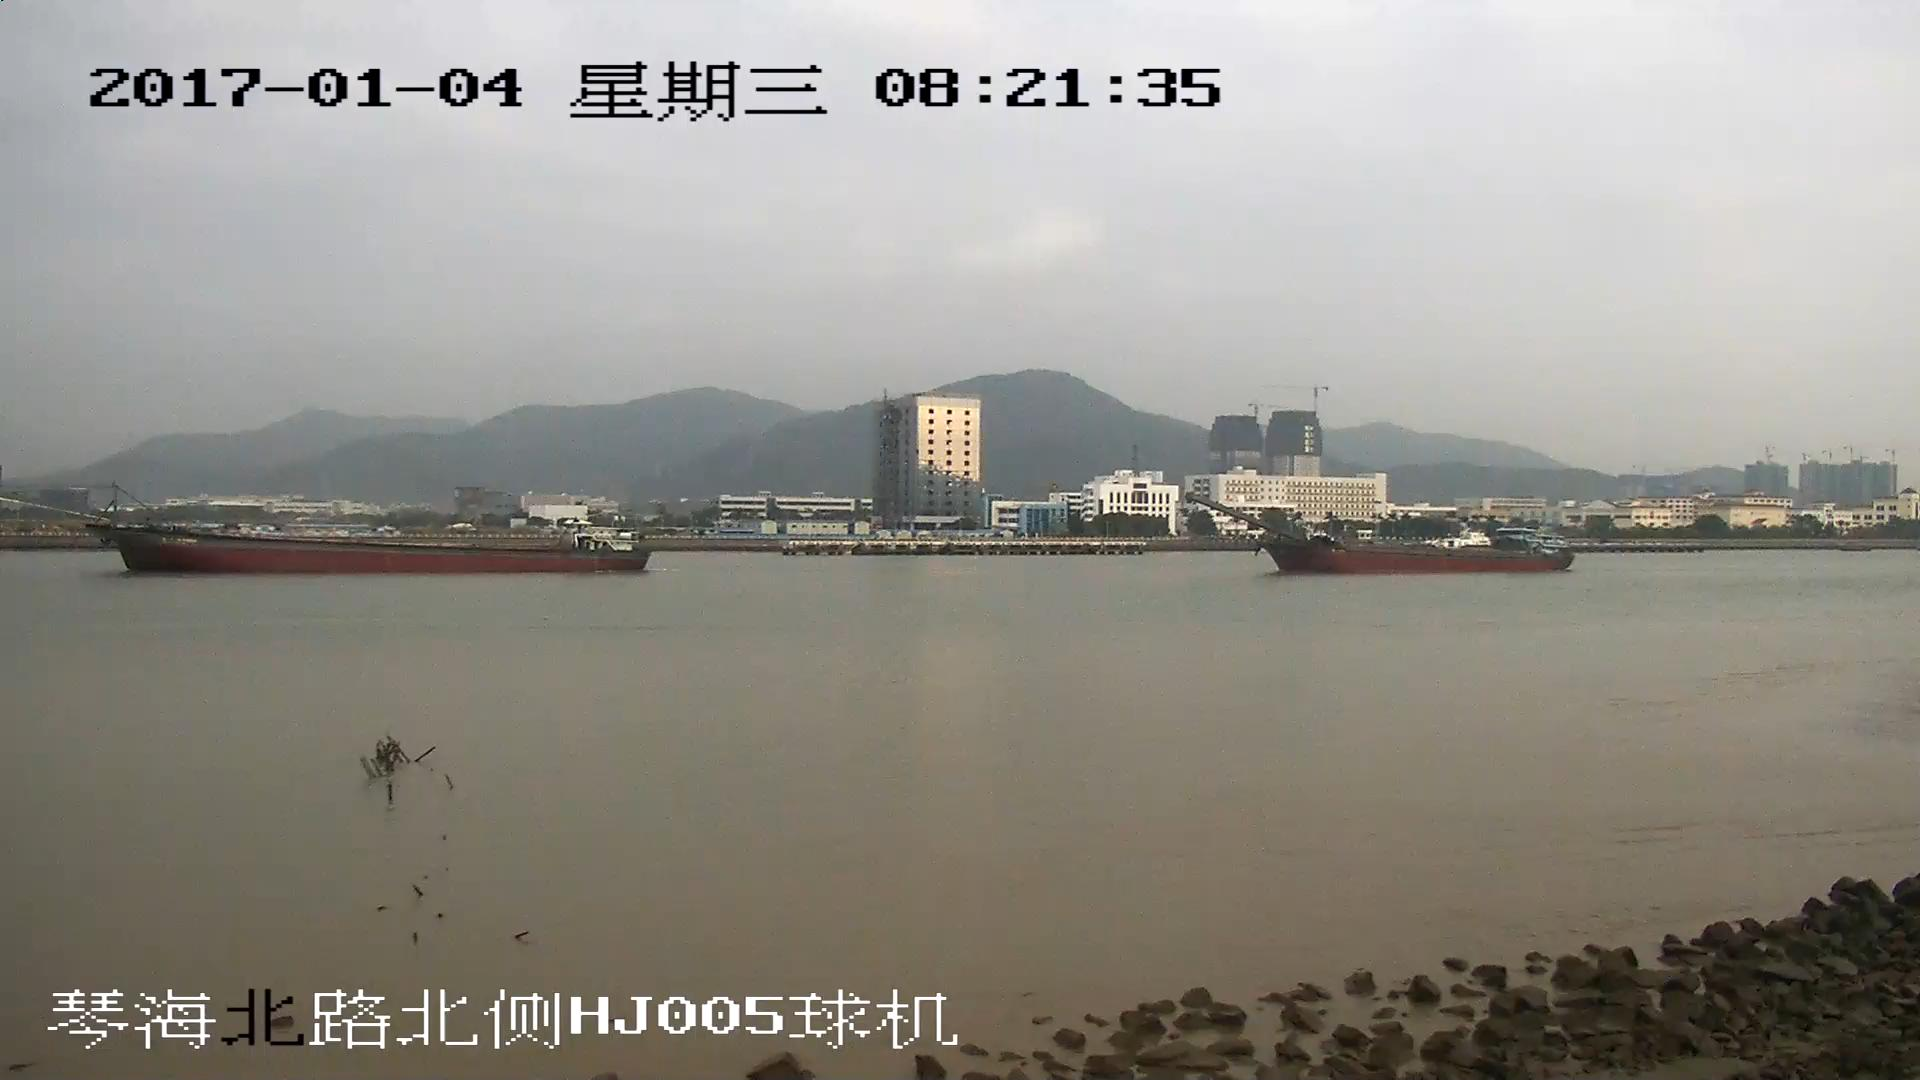bulk cargo carrier: (1, 489, 652, 572), (1191, 493, 1569, 573)
